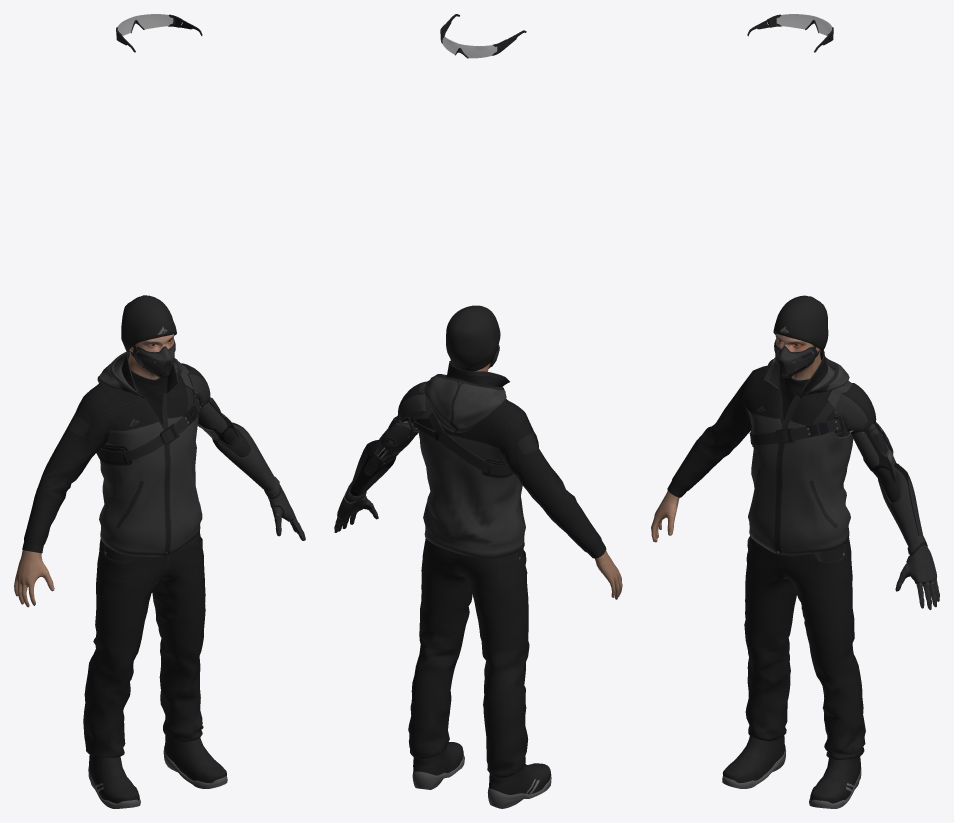
File: galaxy_s26_ultra.glb
3 renders of one model, left to right at view 1: azimuth 30°, elevation 25°; view 2: azimuth 150°, elevation 25°; view 3: azimuth 330°, elevation 25°, orthographic.
Parts seen in each view (by area): view 1: CPD_Body_CPD_0, CPD_Arm_CPP_0, CPD_Head_CPD_0, CPD_Glasses_CPP_Glasses_0; view 2: CPD_Body_CPD_0, CPD_Arm_CPP_0, CPD_Glasses_CPP_Glasses_0; view 3: CPD_Body_CPD_0, CPD_Arm_CPP_0, CPD_Head_CPD_0, CPD_Glasses_CPP_Glasses_0.
Part boxes in pixels (x1,y1,x2,y2): CPD_Body_CPD_0: (14, 338, 227, 808); CPD_Arm_CPP_0: (97, 295, 305, 540); CPD_Head_CPD_0: (128, 334, 174, 379); CPD_Glasses_CPP_Glasses_0: (117, 14, 174, 35); CPD_Body_CPD_0: (408, 345, 622, 808); CPD_Arm_CPP_0: (334, 305, 506, 532); CPD_Glasses_CPP_Glasses_0: (440, 33, 497, 58); CPD_Body_CPD_0: (651, 338, 865, 808); CPD_Arm_CPP_0: (767, 295, 939, 609); CPD_Head_CPD_0: (775, 334, 821, 380); CPD_Glasses_CPP_Glasses_0: (775, 14, 831, 35).
Bounding box in the file's own units: 1.12 × 2.85 × 0.3748.
Materials: 4 (2 with a texture image).
